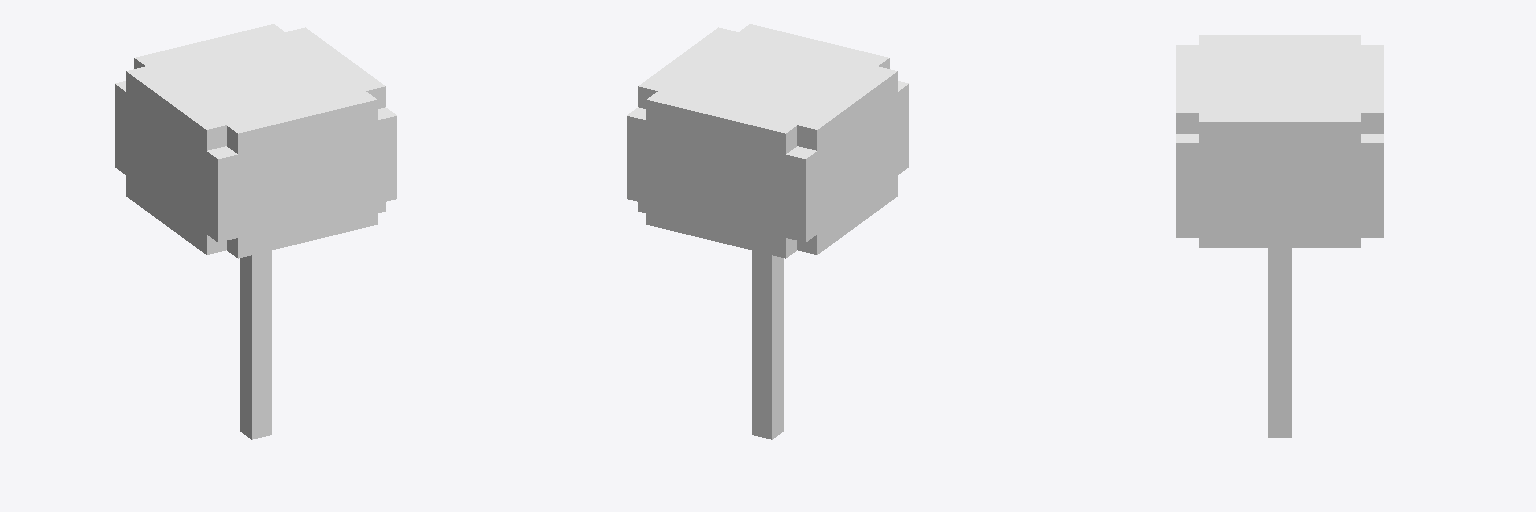
The model's file is boompje.obj.
The picture shows the model from 3 angles: view 1: azimuth 30°, elevation 25°; view 2: azimuth 150°, elevation 25°; view 3: azimuth 270°, elevation 25°; orthographic projection.
Visible parts, largest first — view 1: boompje; view 2: boompje; view 3: boompje.
Boxes of the visible parts, <box> form: boompje: <box>115,24,396,439</box>; boompje: <box>627,24,908,439</box>; boompje: <box>1176,35,1383,437</box>.
Bounding box in the file's own units: 9 × 17 × 9.